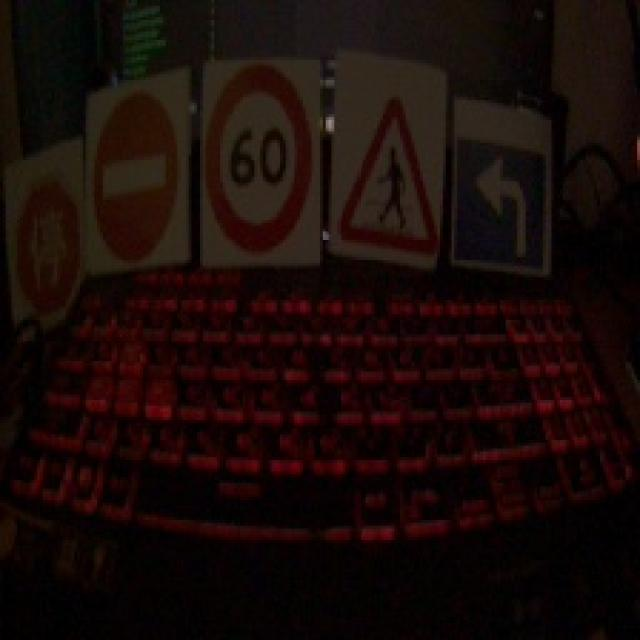DoNotEnterSign: (91, 92, 180, 258)
